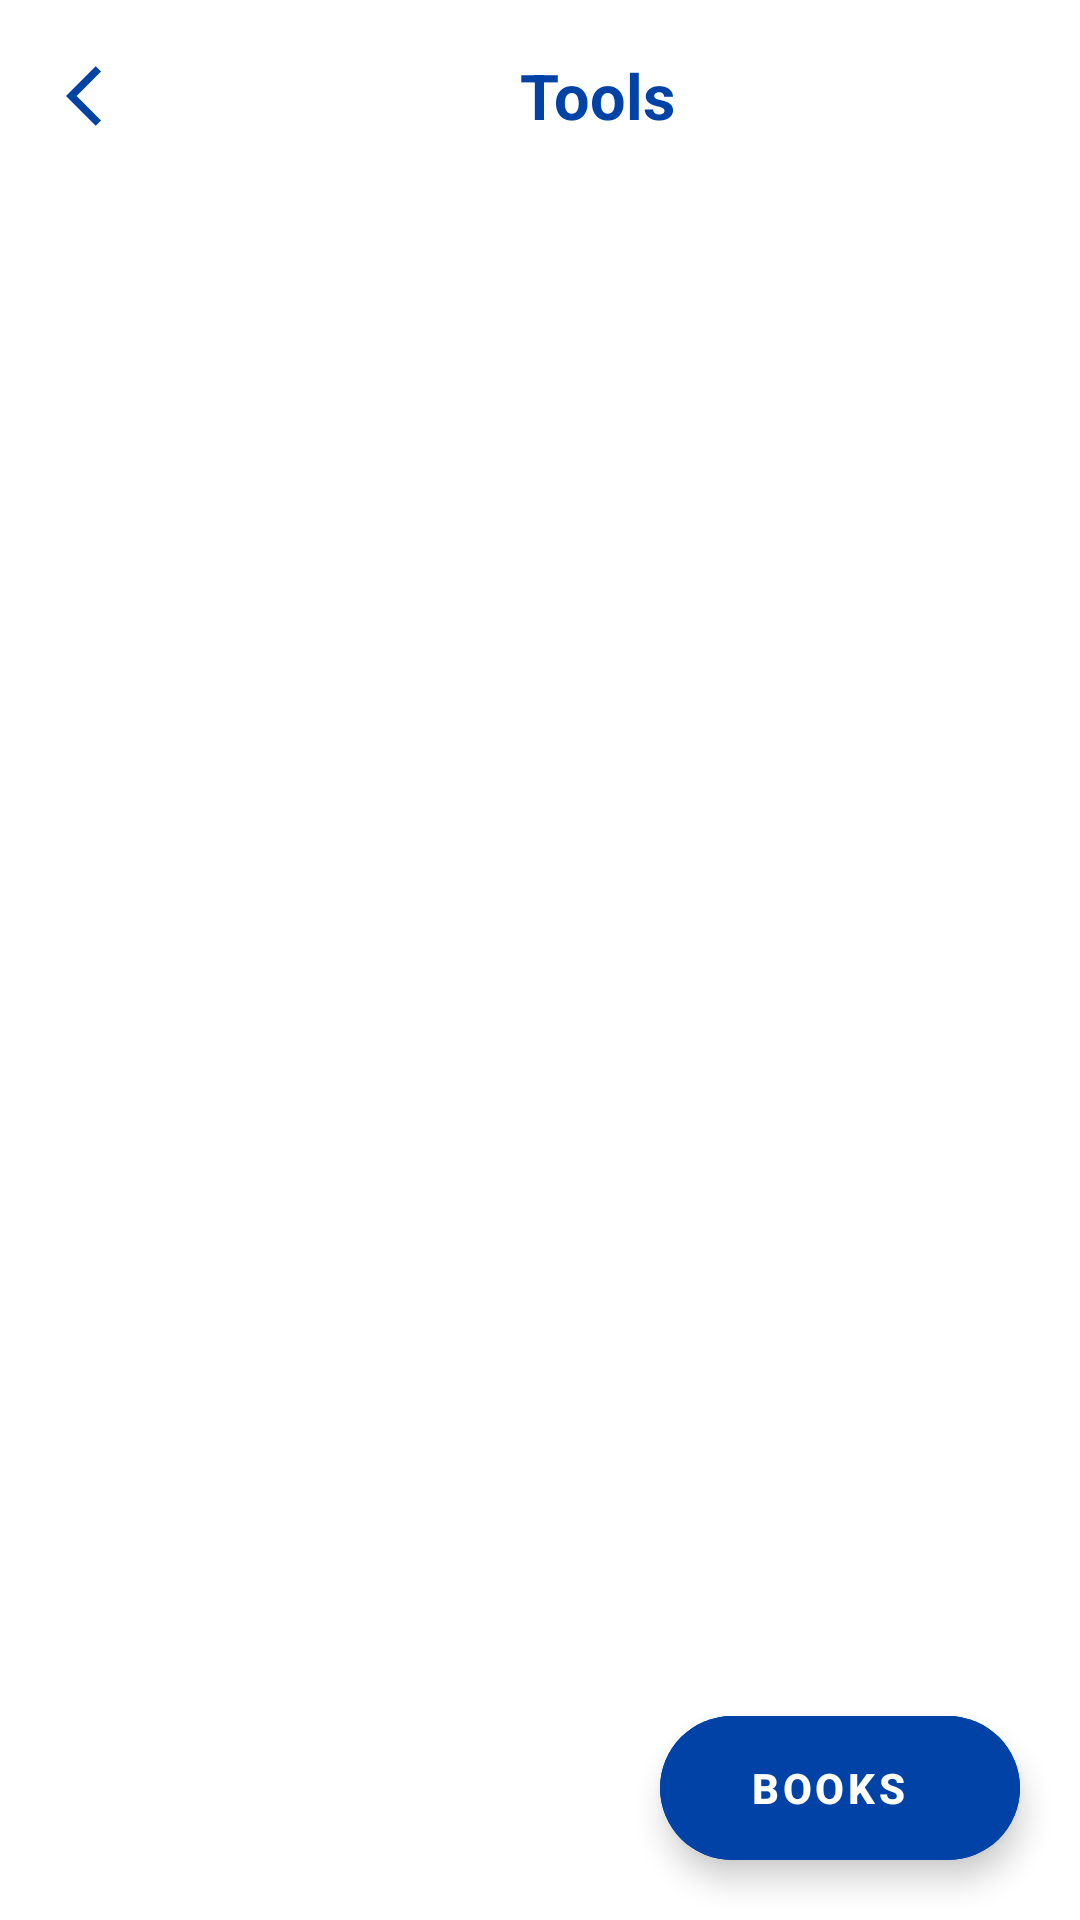

Icon click points for this 1080 x 1920 phone screenshot, format (x,y):
back: (83,96)
